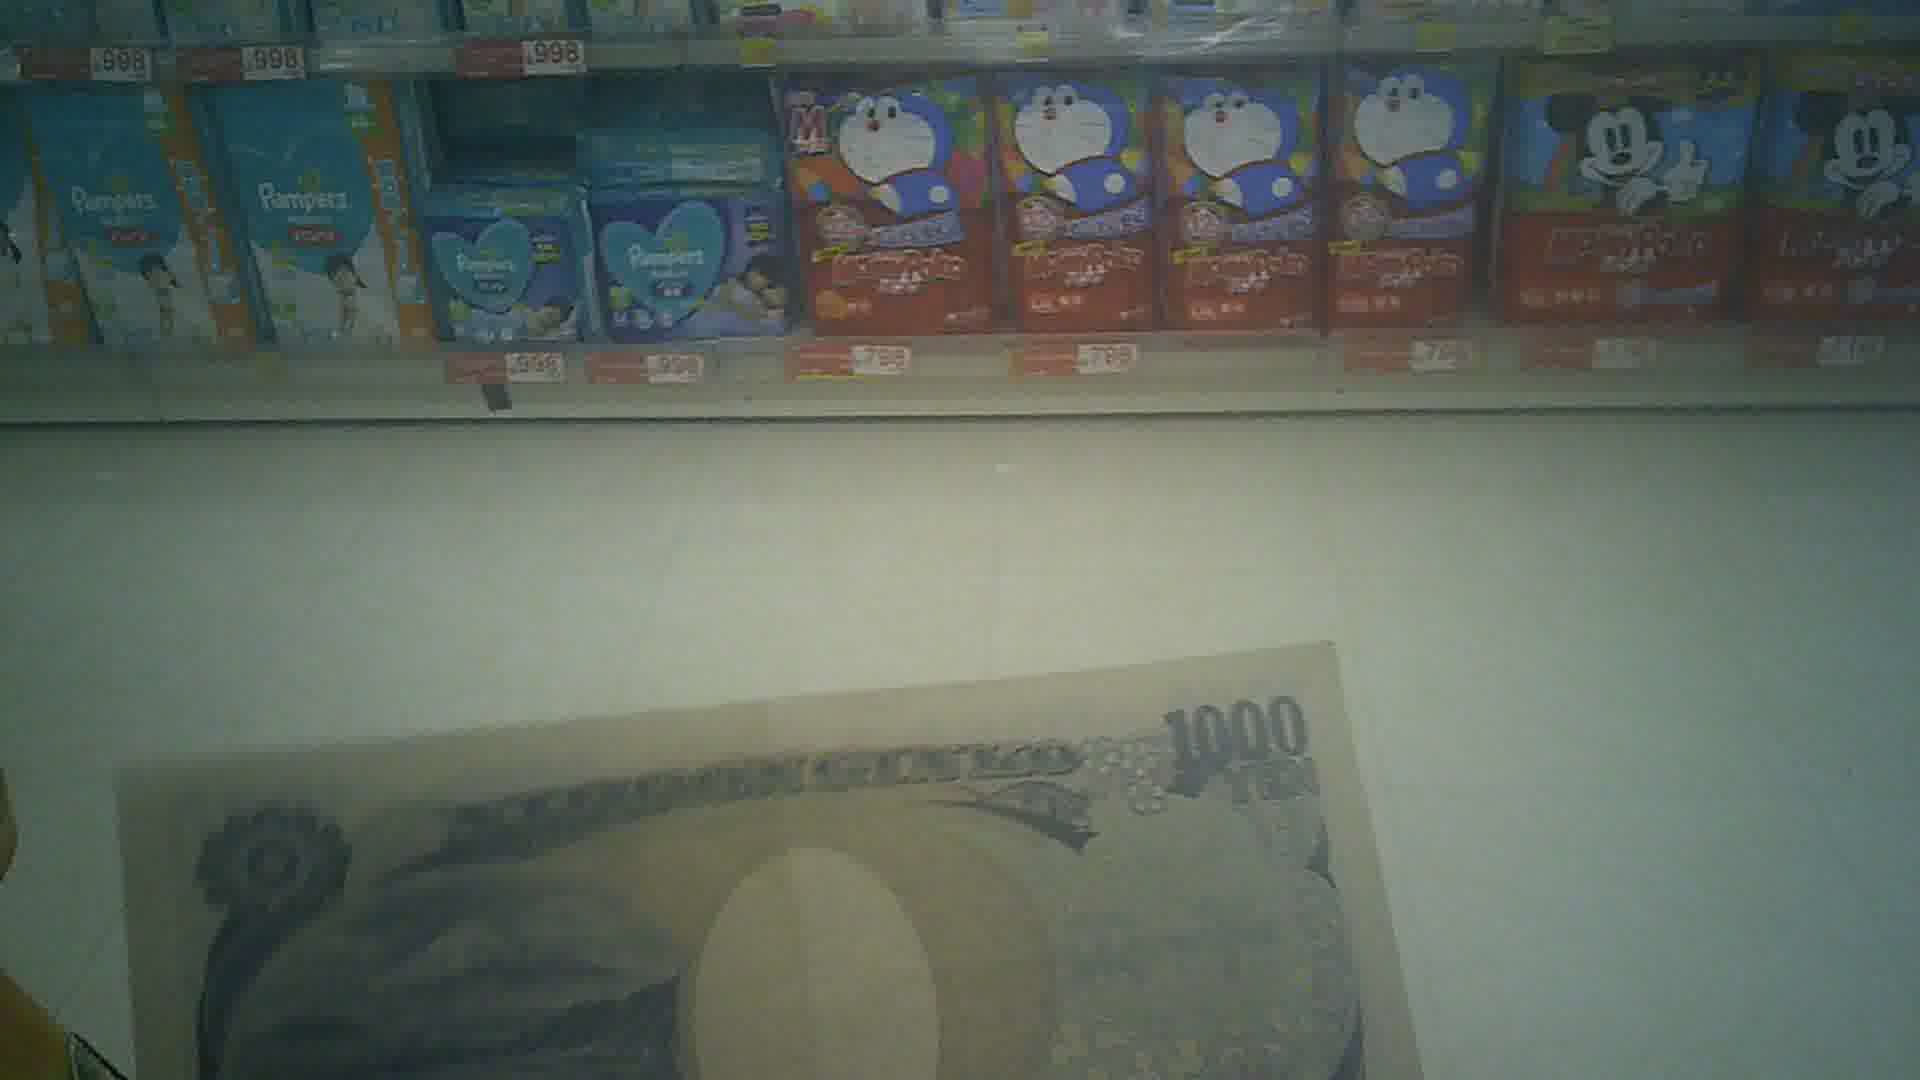1,000 Yen: (100, 636, 1367, 1079)
